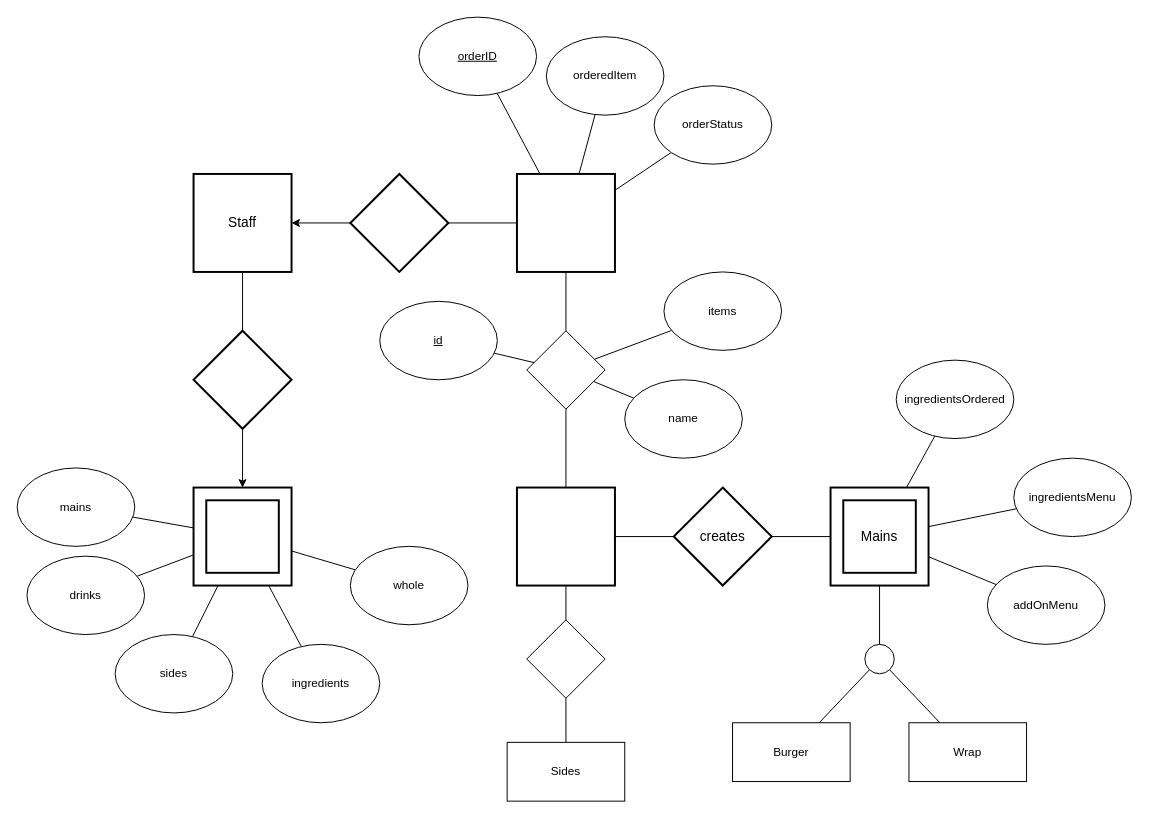
Image size: 1149x818. Some labels were removed from this diagram. The centre of each missing label's shape, as x and y in pixels:
"checksout" belongs at (x=565, y=369).
"cooks" belongs at (x=399, y=222).
"Customer" belongs at (x=565, y=536).
"optionally adds" belongs at (x=565, y=658).
"Orders" belongs at (x=565, y=222).
"Stock" belongs at (x=242, y=536).
"updates" belongs at (x=242, y=379).
